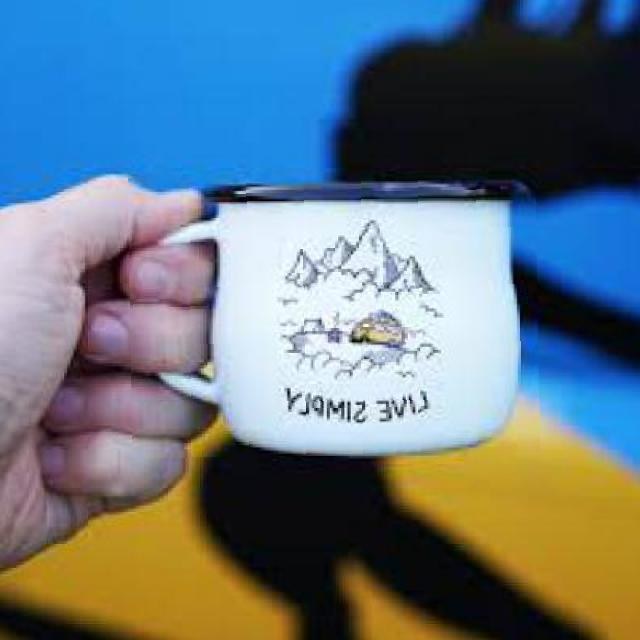cup: (127, 171, 540, 459)
